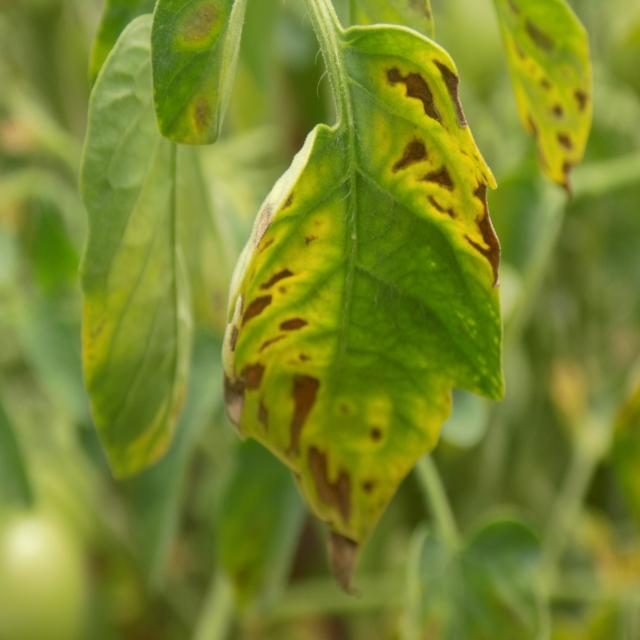tomato_early blight: (225, 23, 502, 560), (498, 0, 594, 192)
